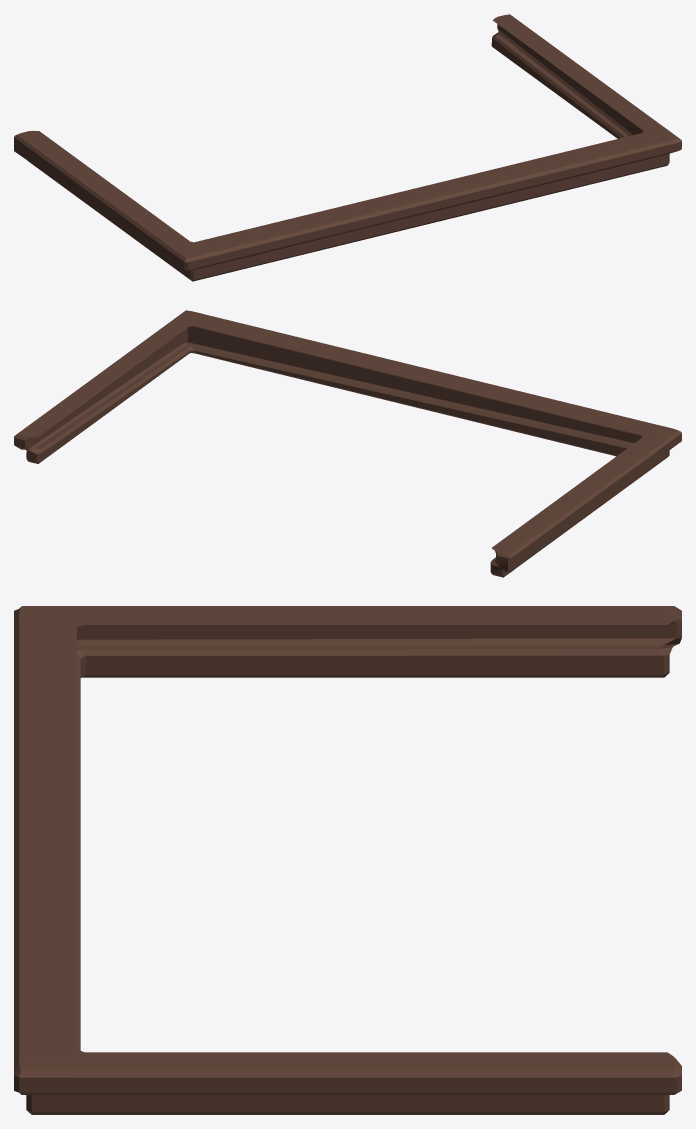
File: Woodenhousetrim.fbx
The picture shows the model from 3 angles, top to bottom: view 1: azimuth 30°, elevation 25°; view 2: azimuth 150°, elevation 25°; view 3: azimuth 270°, elevation 25°; orthographic projection. The views are drawn at different scales.
Visible parts, largest first — view 1: Rooftrim; view 2: Rooftrim; view 3: Rooftrim.
Boxes of the visible parts, bbox=[...] form: Rooftrim: bbox=[14, 14, 681, 281]; Rooftrim: bbox=[14, 310, 681, 577]; Rooftrim: bbox=[14, 606, 681, 1114].
Bounding box in the file's own units: 1054 × 55.73 × 635.
